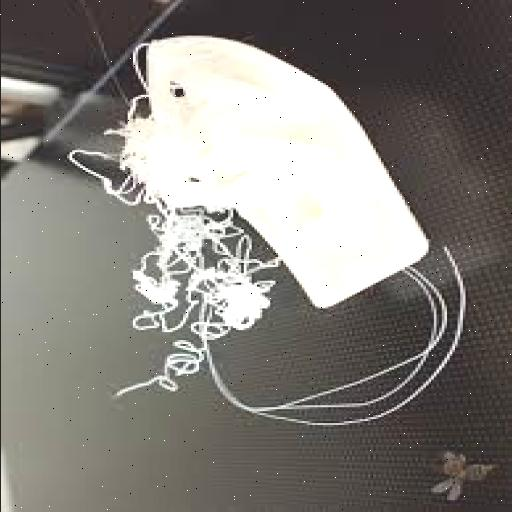spaghetti: (117, 214, 279, 424), (96, 74, 164, 203)
